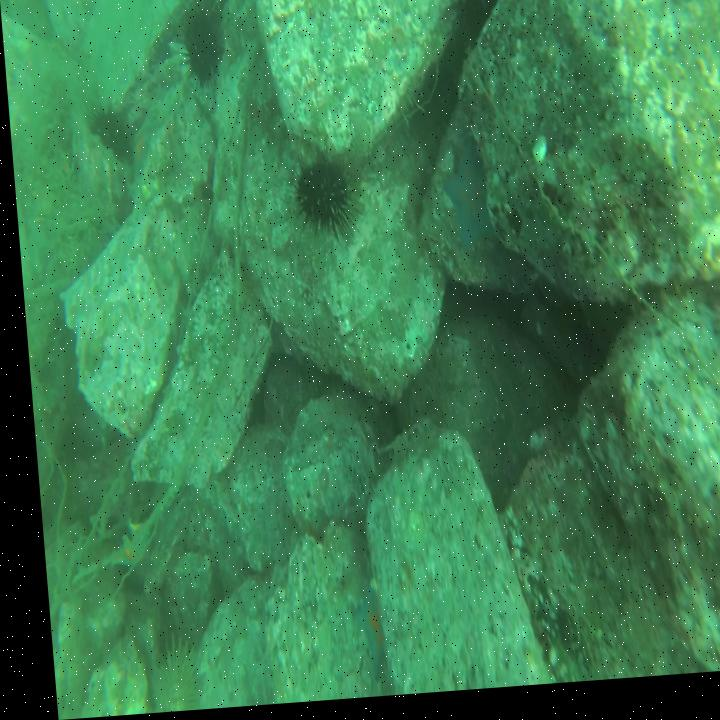echinus: (279, 133, 365, 256), (173, 3, 228, 96), (136, 629, 196, 714), (82, 97, 135, 175)
holothurian: (686, 353, 720, 445)
starfish: (437, 139, 496, 260), (340, 590, 379, 687)
